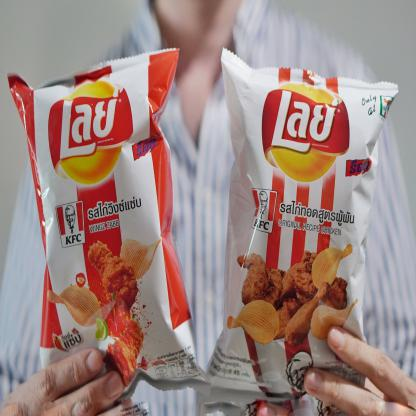potatochip: (200, 44, 401, 416), (7, 47, 207, 401)
